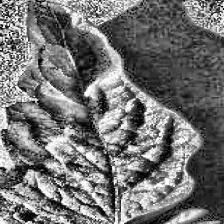spider mites: (0, 0, 206, 224)
